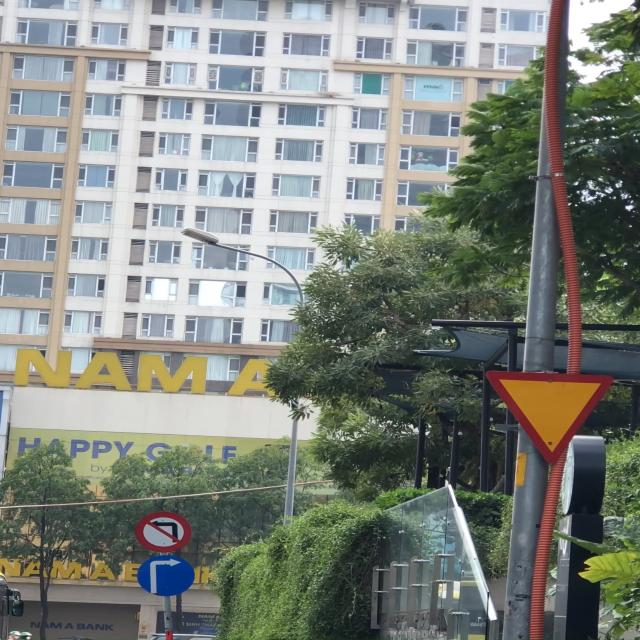Bien bao cam re trai: (133, 511, 191, 551)
Bien bao giao nhau voi duong uu tien: (481, 367, 614, 467)
Bien bao huong di phai theo: (136, 553, 200, 601)
